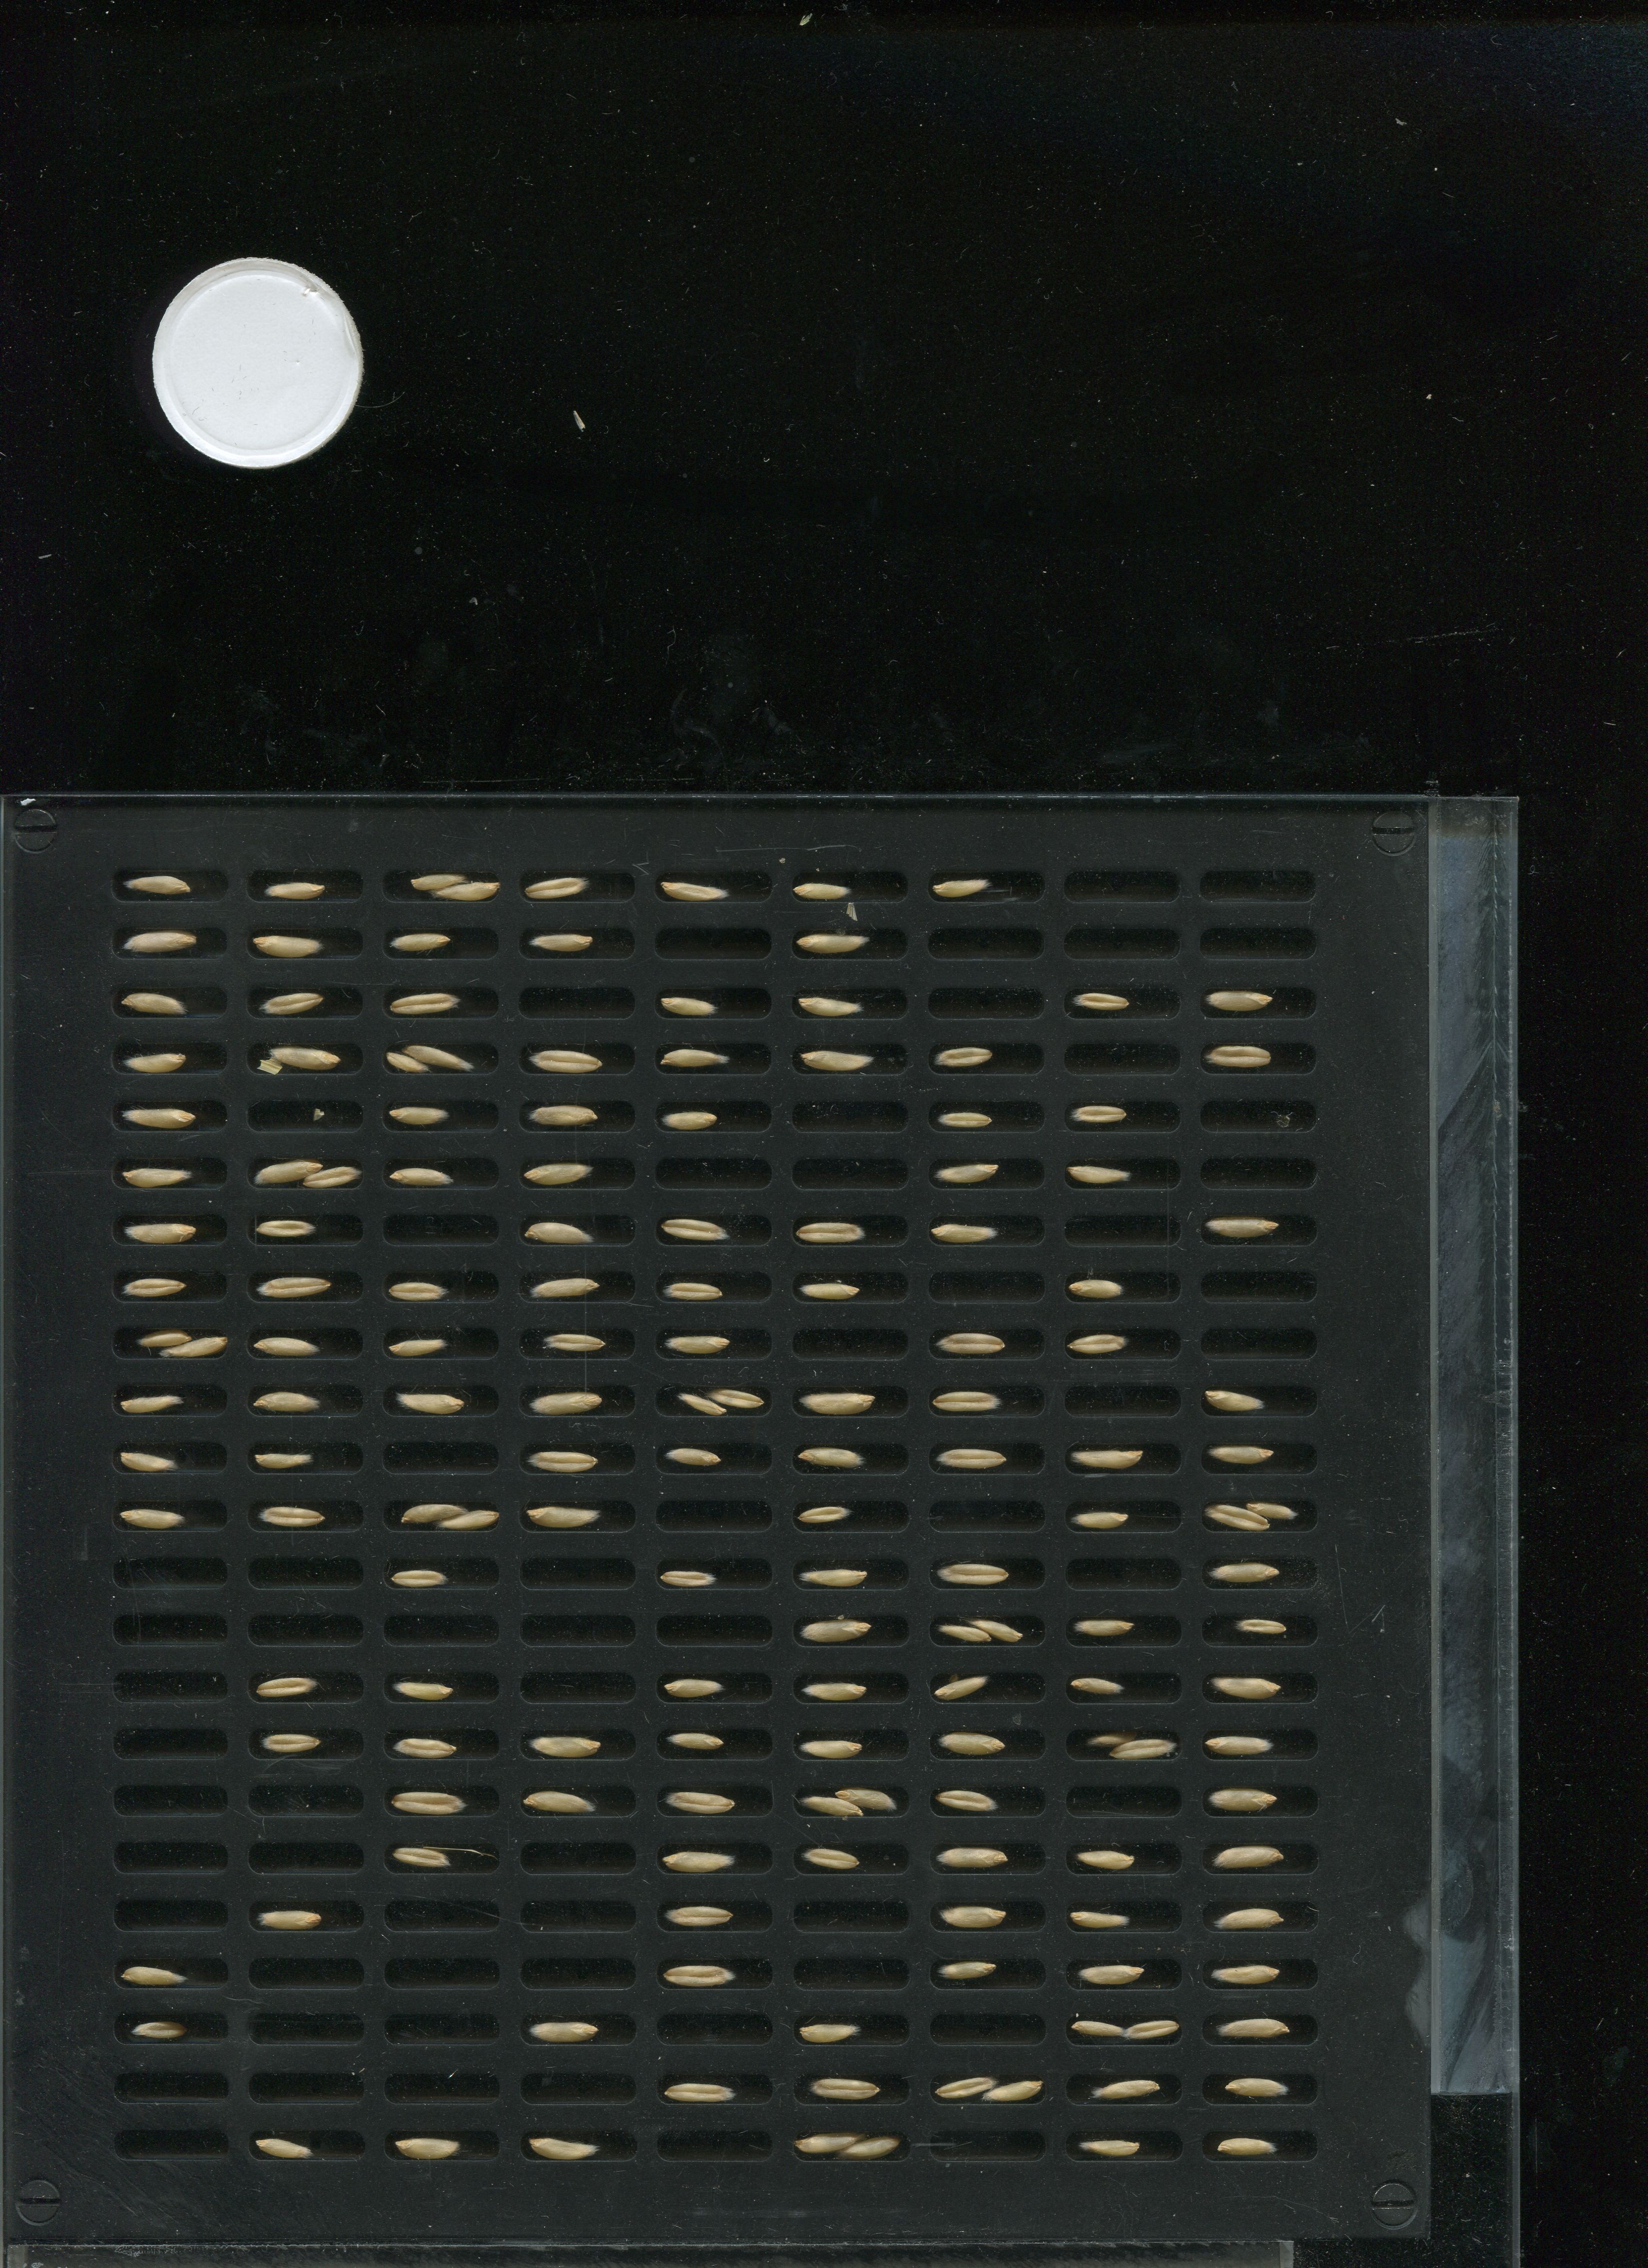NakedGrain: (401, 1042, 481, 1076), (254, 872, 331, 903), (158, 1329, 236, 1361), (118, 928, 202, 956), (113, 1162, 197, 1190), (109, 1447, 194, 1476), (111, 1502, 195, 1530), (246, 1502, 331, 1530), (245, 1388, 329, 1416), (525, 1101, 609, 1129), (525, 1048, 609, 1076), (919, 873, 1004, 902), (921, 1044, 1005, 1072), (1060, 988, 1144, 1016), (1201, 986, 1285, 1014), (1197, 1042, 1282, 1071), (1060, 1101, 1144, 1129), (924, 1106, 1009, 1134), (1199, 1215, 1284, 1243), (516, 1217, 600, 1245), (651, 1215, 736, 1243), (377, 1277, 461, 1305), (521, 1273, 606, 1301), (924, 1388, 1009, 1416), (1203, 1440, 1287, 1469), (651, 1442, 736, 1470), (518, 1504, 602, 1532), (778, 1500, 863, 1528), (1058, 1504, 1143, 1532), (1201, 1557, 1285, 1585), (931, 1560, 1016, 1588), (373, 1564, 458, 1592), (246, 1727, 331, 1756), (382, 1733, 467, 1761), (1222, 1611, 1306, 1639), (792, 1676, 877, 1705), (791, 1734, 875, 1763), (1199, 1786, 1284, 1814), (919, 1787, 1004, 1815), (658, 1787, 743, 1815), (380, 1844, 465, 1872), (109, 1962, 194, 1990), (789, 1844, 873, 1872), (1058, 1905, 1143, 1933), (657, 2078, 741, 2106), (780, 2016, 864, 2044), (923, 1955, 1007, 1983), (1206, 2013, 1291, 2041), (1215, 2071, 1299, 2099), (1203, 2129, 1287, 2157), (116, 1102, 199, 1130), (792, 928, 875, 956), (533, 1328, 616, 1356), (118, 868, 195, 898), (248, 931, 326, 961), (431, 1504, 507, 1534), (114, 990, 199, 1016), (118, 1046, 202, 1072), (118, 1220, 202, 1247), (113, 1273, 197, 1300), (111, 1391, 195, 1417), (243, 1446, 327, 1472), (254, 1273, 338, 1300), (246, 1217, 331, 1243), (262, 1044, 347, 1071), (379, 928, 463, 954), (382, 988, 467, 1014), (382, 1104, 467, 1130), (380, 1164, 465, 1190), (525, 928, 609, 954), (521, 875, 606, 902), (782, 879, 866, 905), (650, 995, 734, 1021), (650, 1044, 734, 1071), (650, 1106, 734, 1132), (791, 991, 875, 1018), (791, 1048, 875, 1074), (924, 1159, 1009, 1185), (1058, 1164, 1143, 1190), (923, 1219, 1007, 1245), (789, 1219, 873, 1245), (655, 1278, 739, 1305), (785, 1275, 870, 1301), (1053, 1273, 1137, 1300), (1055, 1329, 1139, 1356), (928, 1328, 1012, 1354), (655, 1331, 739, 1358), (377, 1329, 461, 1356), (525, 1388, 609, 1414), (791, 1389, 875, 1416), (1192, 1388, 1276, 1414), (1065, 1446, 1150, 1472), (928, 1444, 1012, 1470), (787, 1446, 872, 1472), (518, 1447, 602, 1474), (791, 1565, 875, 1592), (644, 1564, 729, 1590), (245, 1675, 329, 1701), (384, 1678, 468, 1705), (792, 1618, 877, 1645), (1056, 1613, 1141, 1639), (1060, 1675, 1144, 1701), (651, 1675, 736, 1701), (519, 1733, 604, 1759), (926, 1729, 1011, 1756), (514, 1789, 599, 1815), (655, 1847, 739, 1874), (928, 1844, 1012, 1870), (1065, 1844, 1150, 1870), (1204, 1845, 1289, 1872), (1208, 1905, 1292, 1932), (928, 1903, 1012, 1930), (241, 2134, 326, 2161), (655, 1902, 739, 1928), (116, 2014, 201, 2041), (387, 2136, 472, 2162), (525, 2134, 609, 2161), (519, 2020, 604, 2046), (658, 1962, 743, 1988), (799, 2078, 884, 2104), (1067, 2131, 1151, 2157), (1063, 1962, 1148, 1988), (1203, 1962, 1287, 1988), (1081, 2076, 1166, 2102), (250, 1335, 333, 1361), (250, 990, 333, 1016), (525, 1160, 607, 1187), (653, 879, 736, 905), (389, 1389, 472, 1416), (1204, 1673, 1287, 1699), (917, 1675, 1000, 1701), (653, 1726, 736, 1752), (1199, 1734, 1282, 1761), (389, 1791, 472, 1817), (246, 1907, 329, 1933), (1204, 1502, 1269, 1535), (431, 877, 505, 905), (252, 1155, 326, 1183), (1107, 1734, 1183, 1761), (396, 1498, 470, 1525), (703, 1384, 769, 1412), (931, 2073, 998, 2101), (798, 1793, 866, 1819), (1125, 2013, 1181, 2044), (299, 1164, 366, 1190), (967, 1615, 1025, 1645), (835, 1786, 900, 1812), (791, 2131, 864, 2154), (842, 2134, 901, 2161), (673, 1389, 727, 1417), (1067, 2018, 1129, 2043), (931, 1624, 997, 1645), (986, 2078, 1046, 2101), (408, 870, 472, 891), (1247, 1498, 1301, 1521), (132, 1329, 194, 1349), (379, 1053, 438, 1072), (1086, 1727, 1136, 1750)
